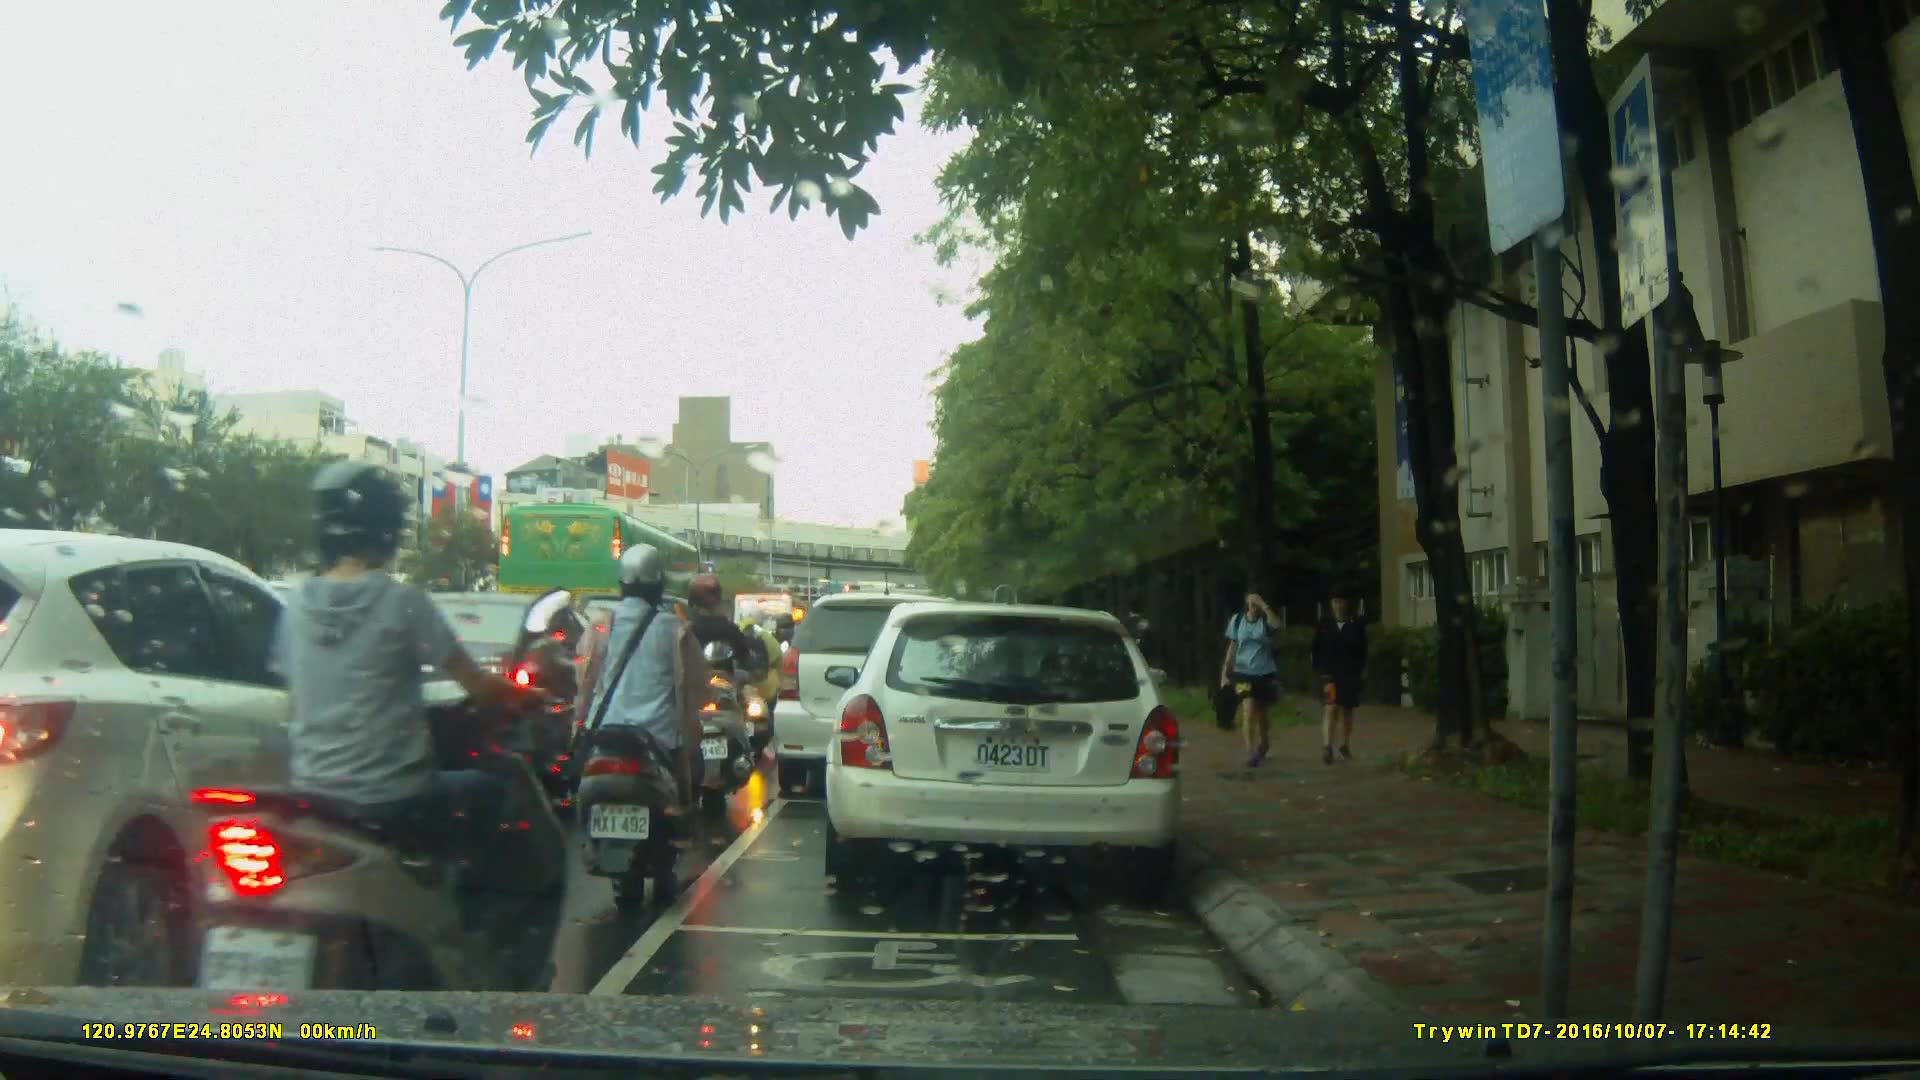pedestrian: (1200, 579, 1306, 770), (1306, 572, 1382, 768), (1123, 596, 1160, 704)
rider: (182, 459, 578, 1063), (566, 545, 712, 902), (664, 573, 757, 804), (721, 603, 790, 756), (765, 612, 815, 738)
vehicle: (1, 528, 447, 988), (831, 592, 1196, 897), (313, 590, 635, 805), (770, 591, 999, 802), (495, 500, 707, 636)
